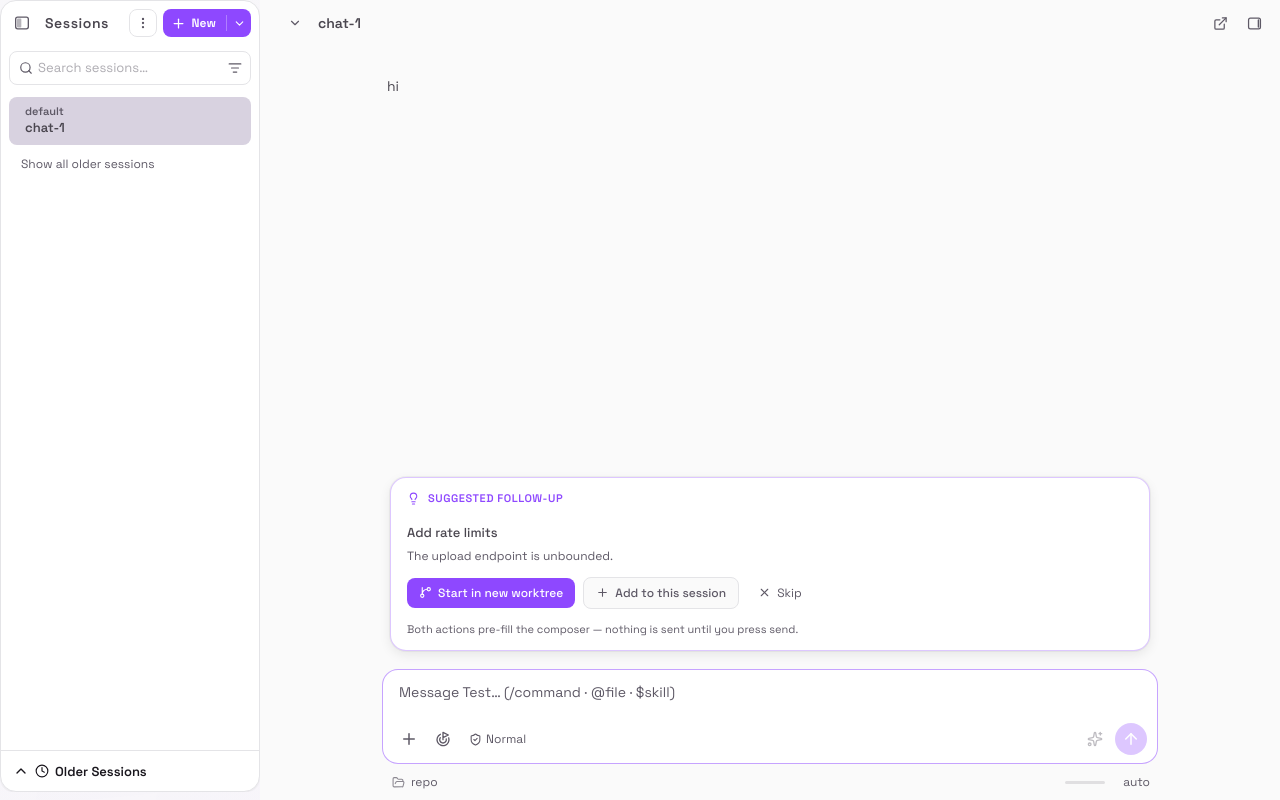
ChatPage follow-up worktree orchestration › "Add to this session" prefills without touching git
This screenshot has width=1280, height=800.
Expected: the text "Add rate limits" is shown, [407,524,498,541]
Click the button "Add to this session" at [661, 593], box [583,577,739,609]
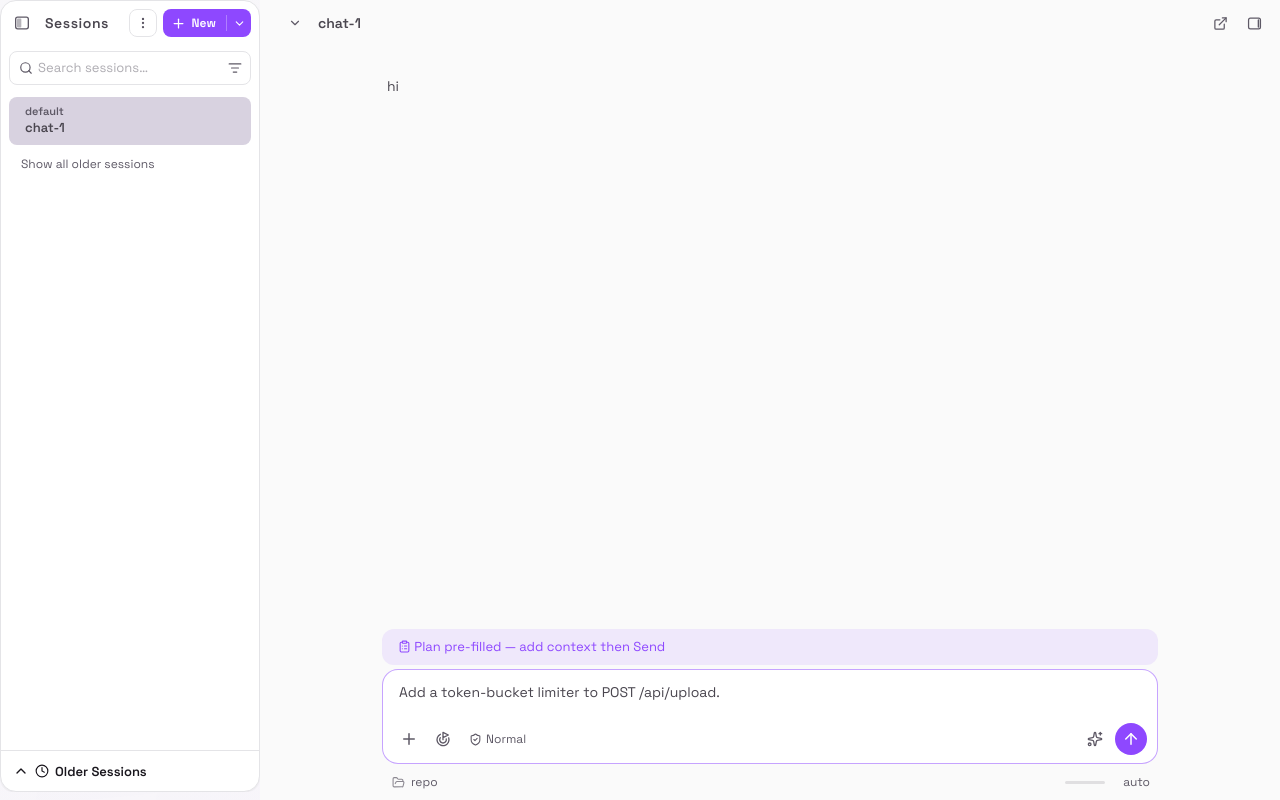
Expected: the text box named "Message input" holds "Add a token-bucket limiter to POST /api/upload.", [383,670,1157,714]
